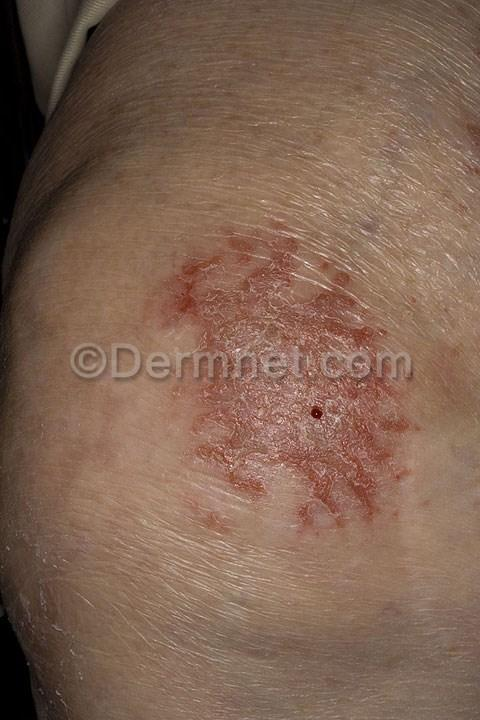Eczema: (155, 218, 422, 554)
